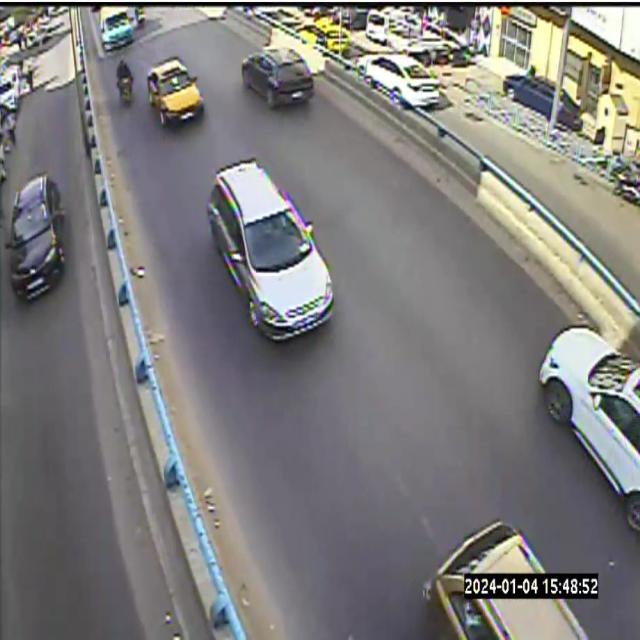car: (207, 159, 333, 340), (423, 520, 598, 639), (538, 327, 639, 531), (242, 46, 314, 108), (357, 53, 439, 107), (147, 57, 203, 126), (100, 7, 133, 50)
